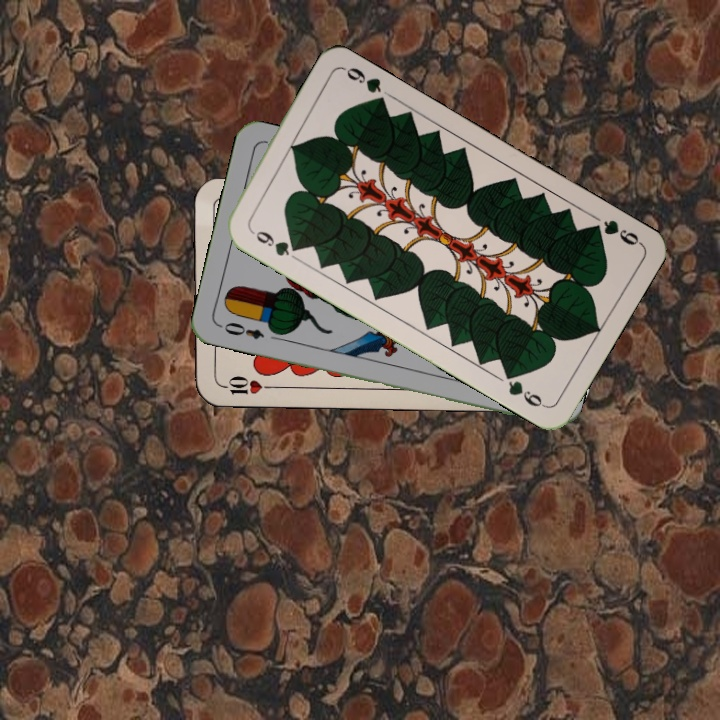EO: (215, 318, 267, 342)
G9: (245, 224, 303, 259), (585, 215, 644, 248)
H10: (216, 372, 275, 397)
